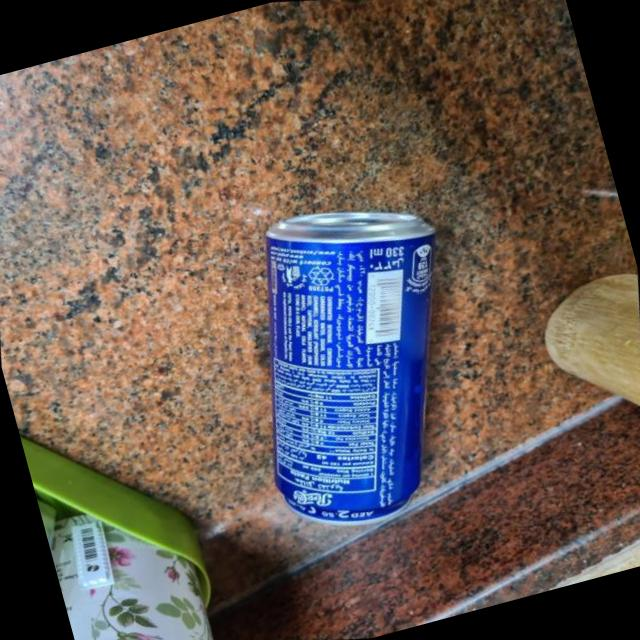Kaleng: (208, 180, 506, 544)
